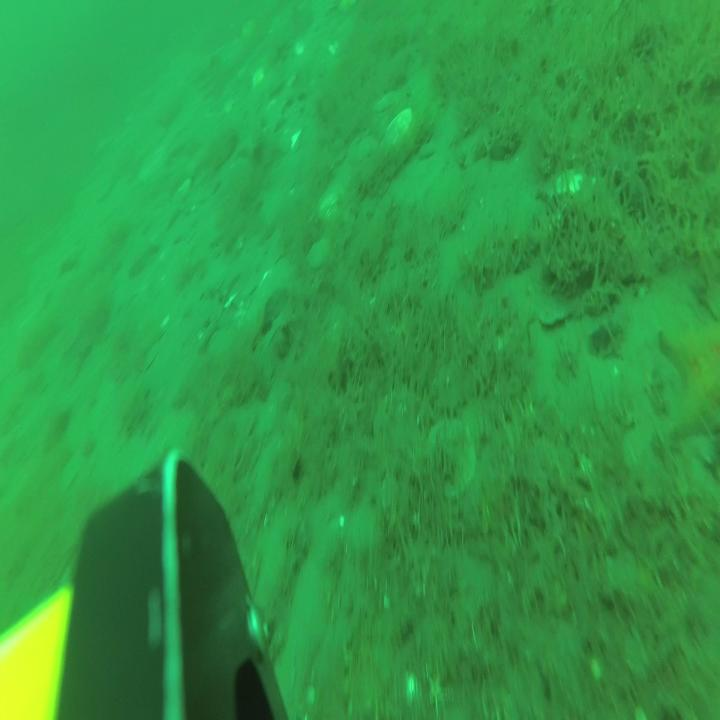scallop: (319, 181, 344, 222), (386, 110, 411, 148), (306, 239, 328, 267), (249, 69, 264, 92)
starfish: (657, 314, 720, 431)
